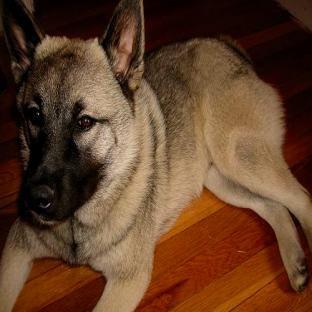Animal: (1, 0, 312, 311)
